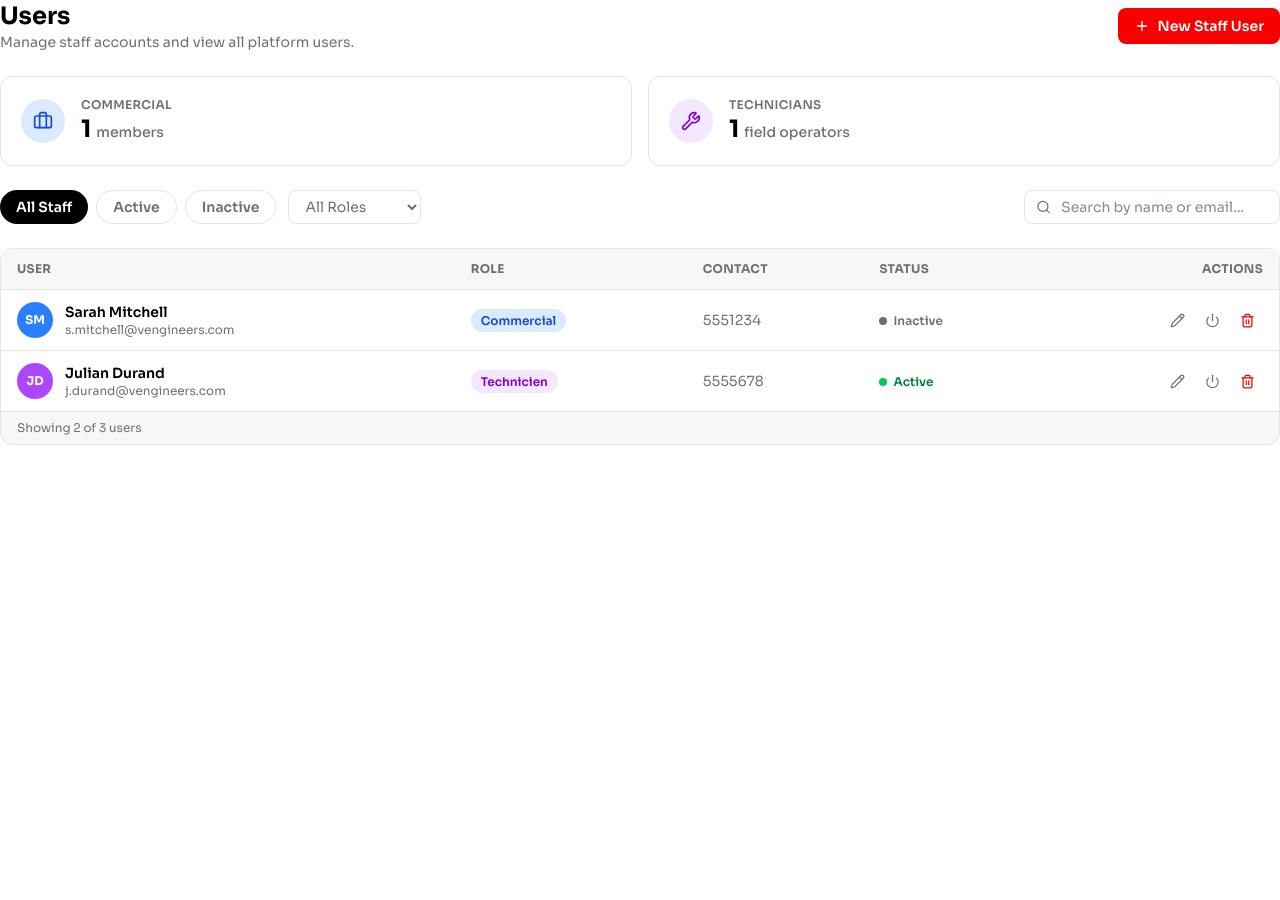
Scenario: Admin Users › shows a generic error message on a non-422 update failure
Check: the text "Sarah Mitchell" is shown, box [65, 303, 168, 321]
Click the button titled "Edit" in the row of "SM" at (1178, 320), box [1162, 304, 1193, 336]
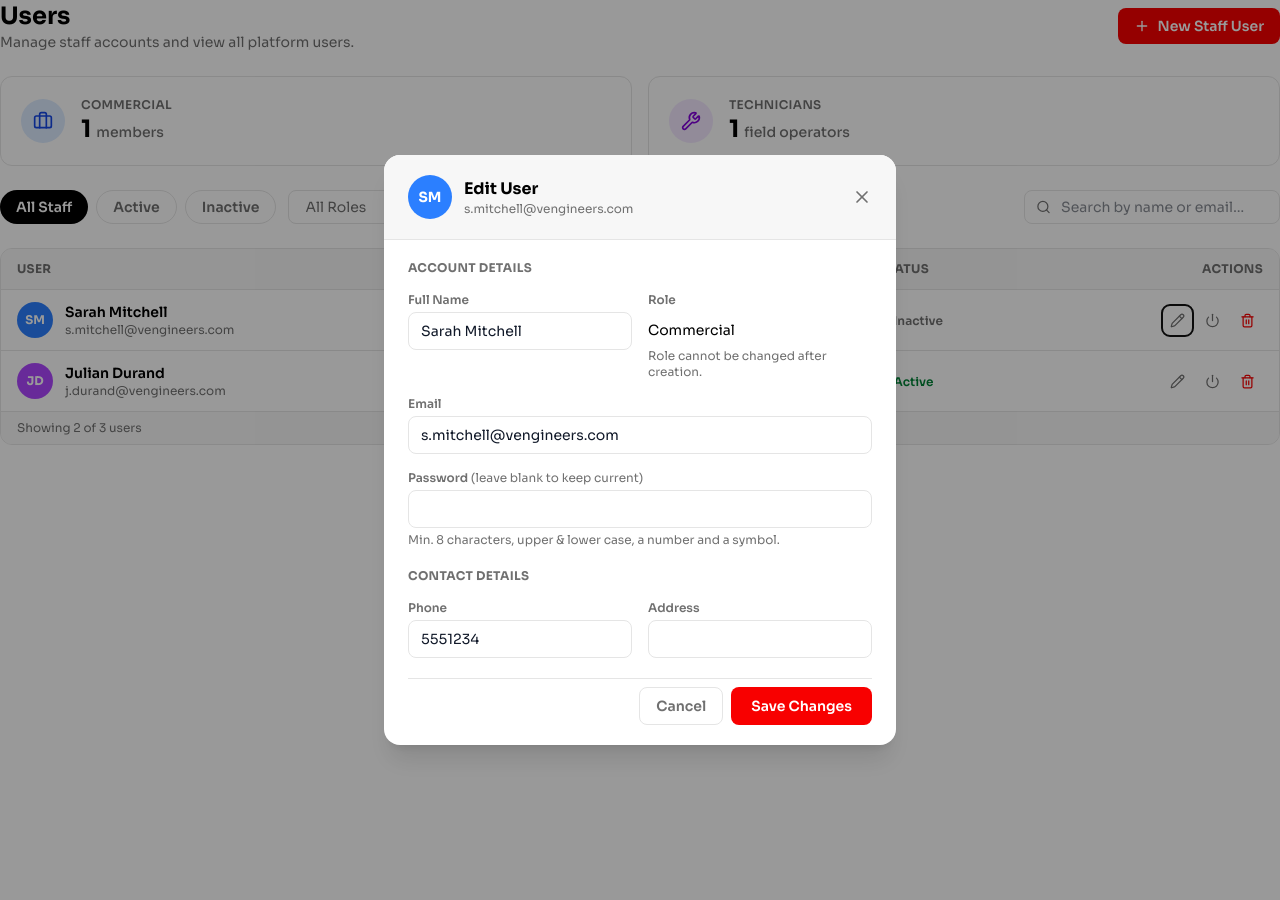
Check: the field labelled "Full Name" is shown, box [408, 312, 632, 350]
Click the button "Save Changes" at (802, 706), box [731, 687, 872, 725]
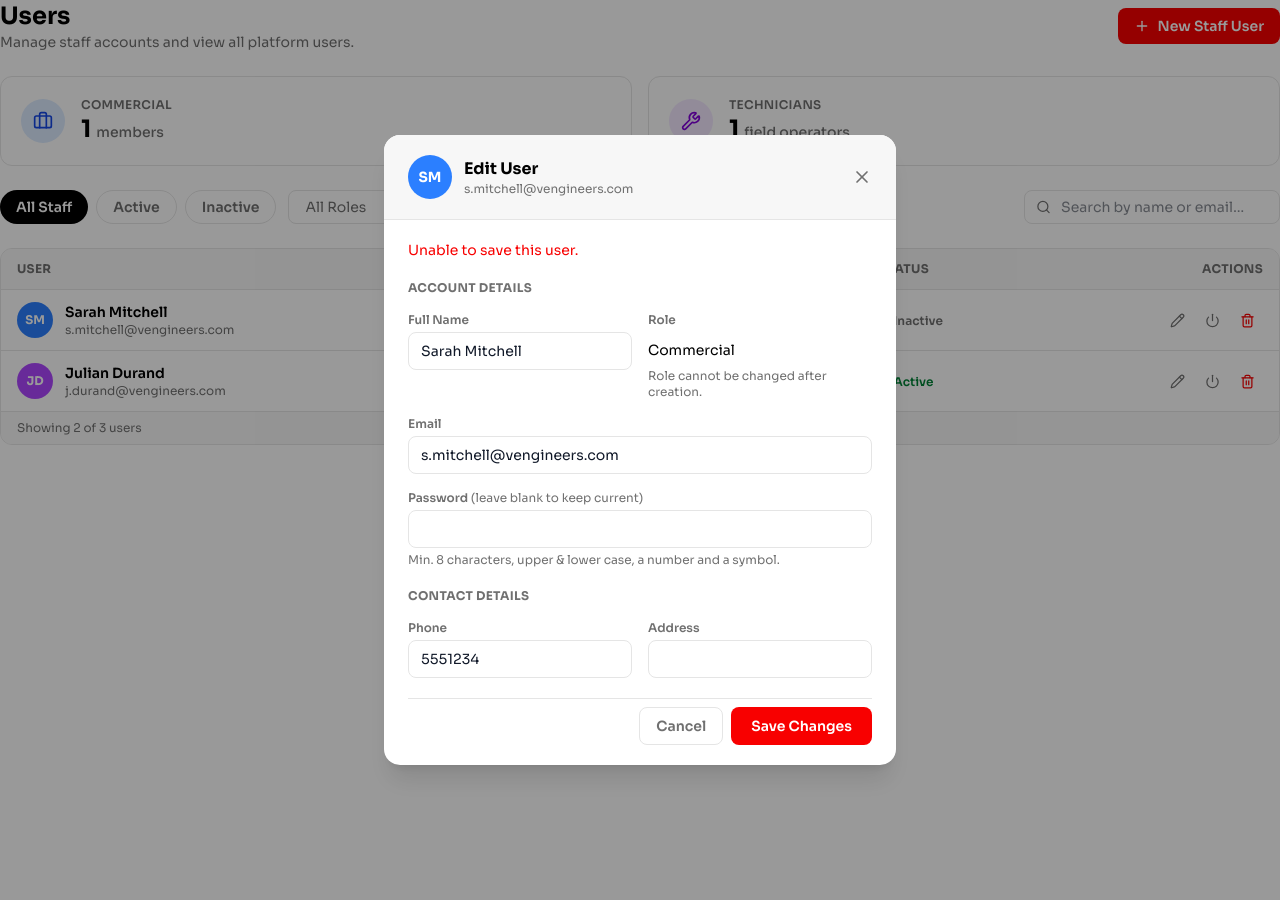
Check: the text "Unable to save this user." is shown, box [408, 241, 578, 259]
